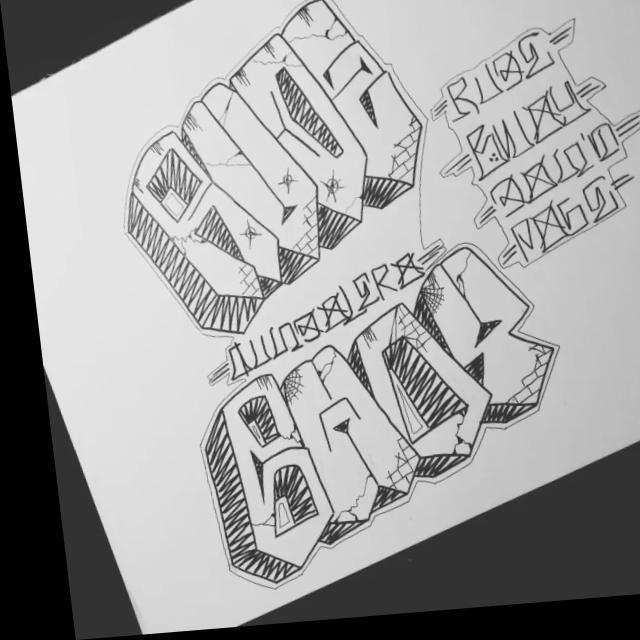nonspitting: (209, 246, 556, 587), (129, 0, 424, 336), (447, 27, 636, 267)
